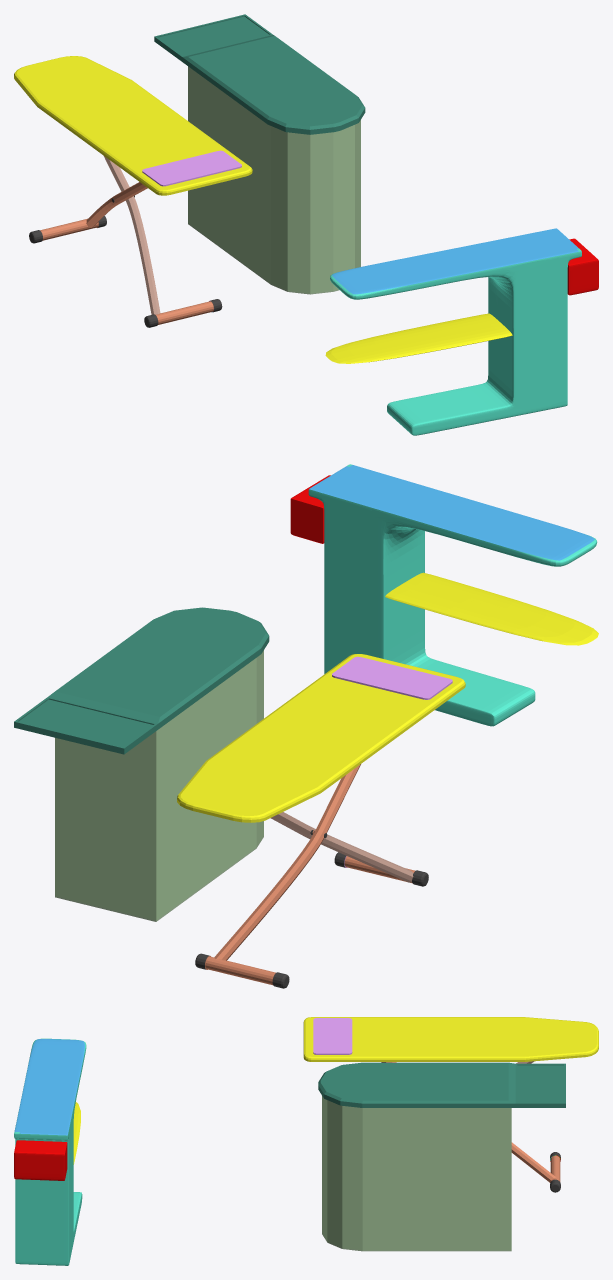
File: Iron press stands 00.fbx
The picture shows the model from 3 angles, top to bottom: view 1: azimuth 30°, elevation 25°; view 2: azimuth 150°, elevation 25°; view 3: azimuth 270°, elevation 25°; orthographic projection. The views are drawn at different scales.
Parts seen in each view (by area): view 1: iron_press_stand_01, iron_press_stand_03, iron_press_stand_02; view 2: iron_press_stand_01, iron_press_stand_03, iron_press_stand_02; view 3: iron_press_stand_01, iron_press_stand_02, iron_press_stand_03.
Part boxes in pixels (box(x1,y1,x2,y2)): iron_press_stand_01: box(154, 14, 365, 294); iron_press_stand_03: box(325, 228, 598, 435); iron_press_stand_02: box(14, 56, 252, 327); iron_press_stand_01: box(14, 607, 269, 921); iron_press_stand_03: box(290, 464, 598, 726); iron_press_stand_02: box(177, 654, 465, 988); iron_press_stand_01: box(318, 1062, 565, 1251); iron_press_stand_02: box(303, 1017, 598, 1192); iron_press_stand_03: box(14, 1038, 86, 1265).
Size of the model in its own units: 833 by 492 by 1671.
Materials: 1 (1 with a texture image).
